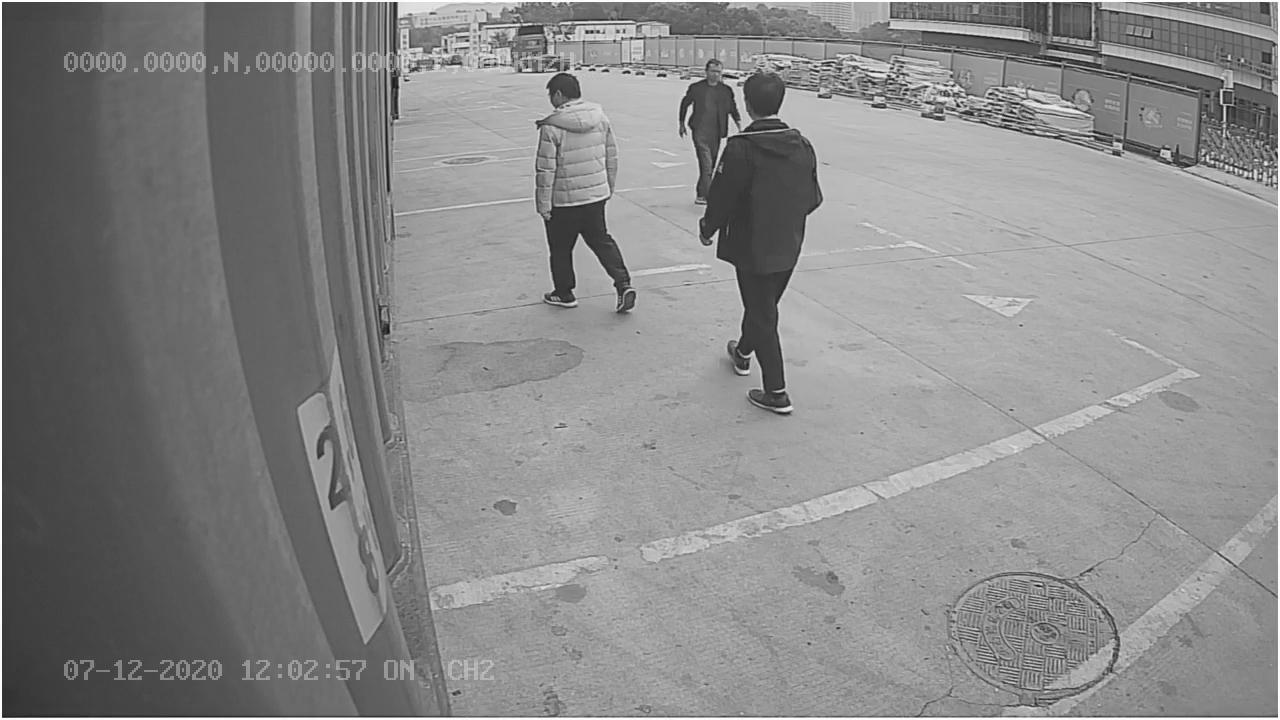person: (530, 70, 640, 314)
